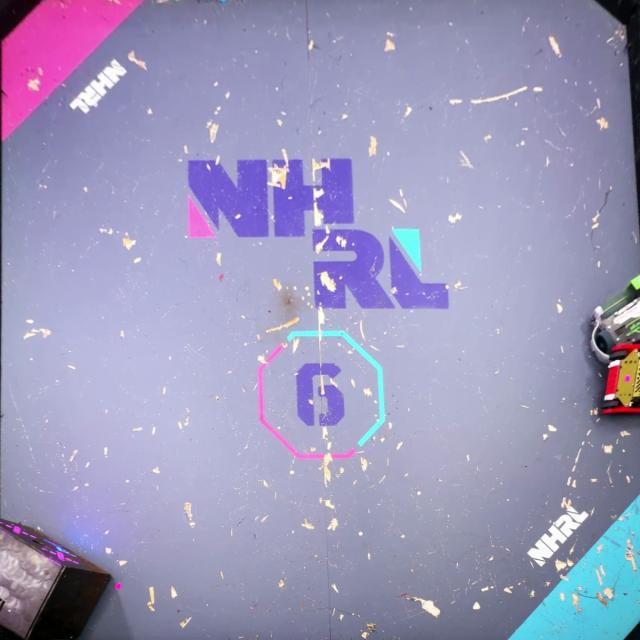housebot: (0, 517, 112, 640)
robot: (590, 273, 640, 364), (600, 342, 640, 418)
